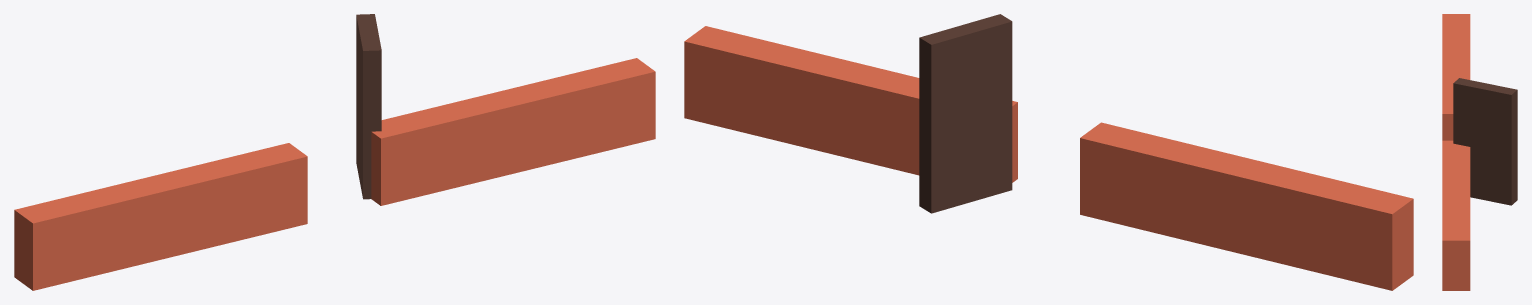
Rendered from Wall.fbx.
The picture shows the model from 3 angles, left to right: view 1: azimuth 30°, elevation 25°; view 2: azimuth 150°, elevation 25°; view 3: azimuth 270°, elevation 25°; orthographic projection. The views are drawn at different scales.
Visible parts, largest first — view 1: Cube.001; view 2: Cube.001; view 3: Cube.001.
Part boxes in pixels (x1=…): Cube.001: x1=14, y1=14, x2=655, y2=290; Cube.001: x1=684, y1=14, x2=1413, y2=290; Cube.001: x1=1442, y1=14, x2=1517, y2=290.
Bounding box in the file's own units: 1922 × 438 × 269.
